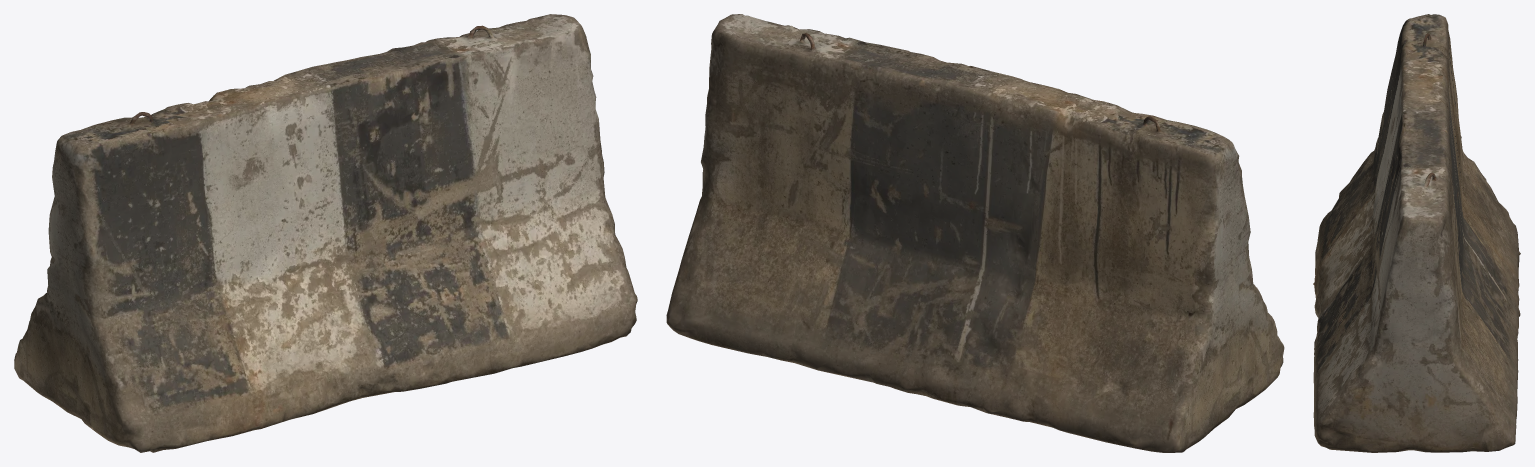
File: p_barrier.glb
3 renders of one model, left to right at view 1: azimuth 30°, elevation 25°; view 2: azimuth 150°, elevation 25°; view 3: azimuth 270°, elevation 25°, orthographic. The views are drawn at different scales.
Parts seen in each view (by area): view 1: concrete_road_barrier; view 2: concrete_road_barrier; view 3: concrete_road_barrier.
Part boxes in pixels (x1,y1,x2,y2): concrete_road_barrier: (14,14,637,452); concrete_road_barrier: (666,14,1284,452); concrete_road_barrier: (1313,14,1520,452).
Size of the model in its own units: 1.54 by 0.8299 by 0.6387.
Materials: 1 (1 with a texture image).
